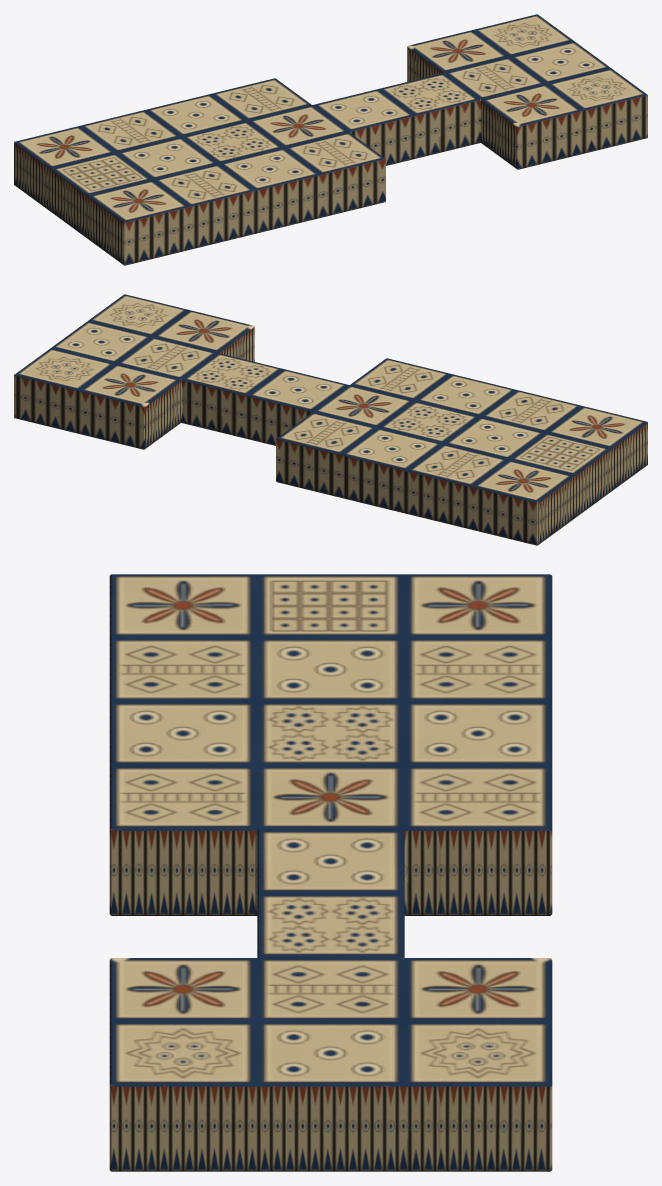
The model's file is ur_board.glb.
3 renders of one model, top to bottom at view 1: azimuth 30°, elevation 25°; view 2: azimuth 150°, elevation 25°; view 3: azimuth 270°, elevation 25°, orthographic. The views are drawn at different scales.
Parts seen in each view (by area): view 1: UR_Board; view 2: UR_Board; view 3: UR_Board.
Boxes of the visible parts, box(x1,y1,x2,y2) form: UR_Board: box(14, 14, 647, 265); UR_Board: box(14, 294, 647, 545); UR_Board: box(109, 574, 552, 1171).
Bounding box in the file's own units: 0.301 × 0.024 × 0.11.
Materials: 1 (1 with a texture image).
